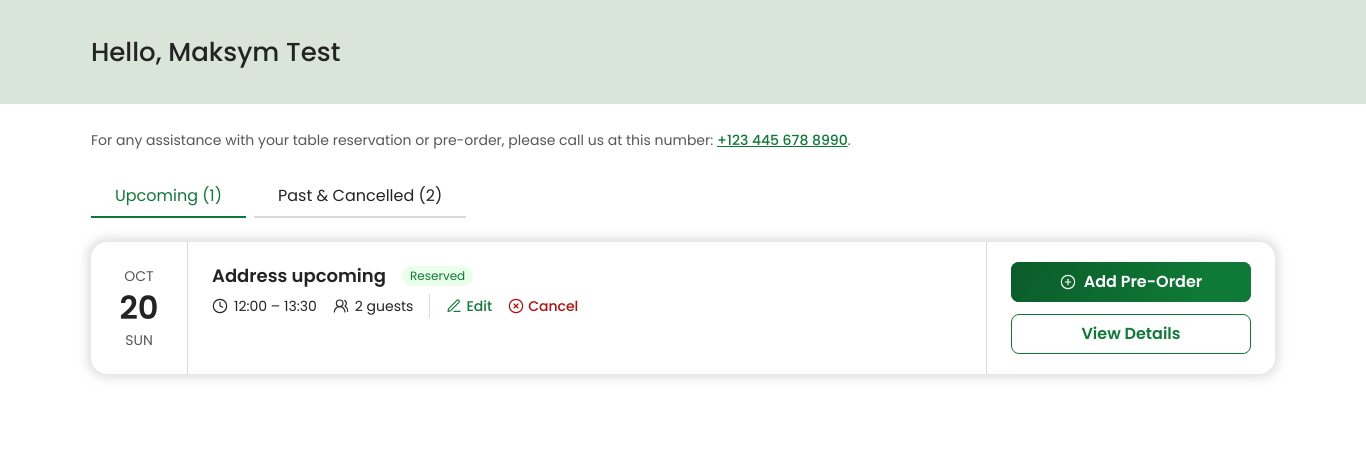
Test: ReservationDashboardComponent (US20) › AC2–AC3: Past & Cancelled — Completed and Cancelled, most recent first, label "Completed"
Click the tab with id "reservations-tab-past" at (360, 197), box [254,176,466,218]
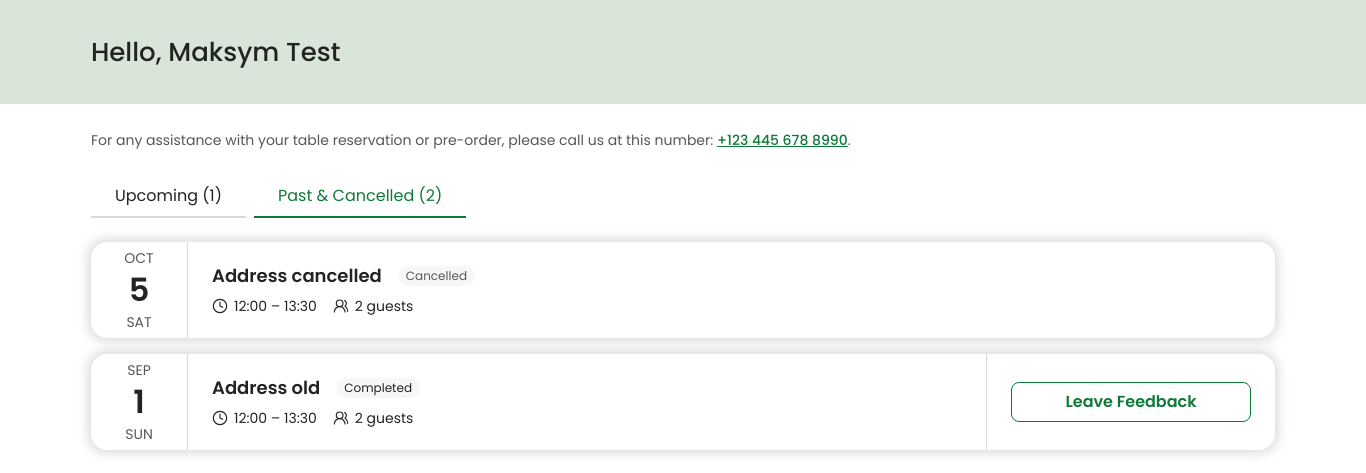
Check: the text "Completed" is shown, box [336,378,420,398]
